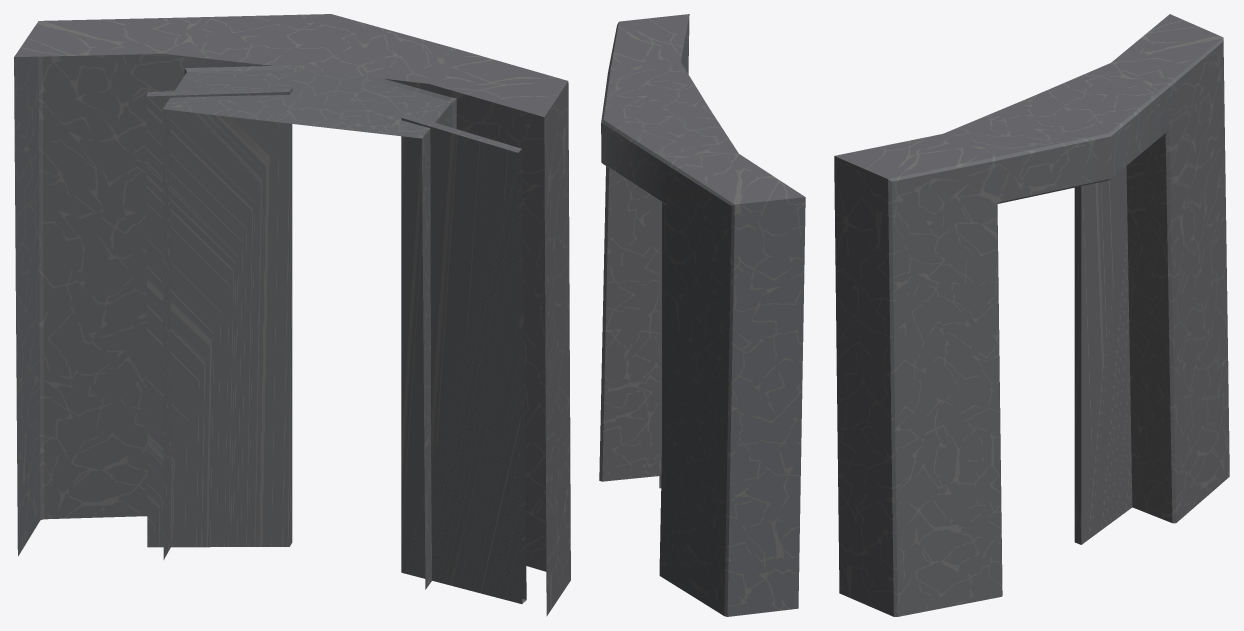
File: field_winter_door_totower.fbx
3 renders of one model, left to right at view 1: azimuth 30°, elevation 25°; view 2: azimuth 150°, elevation 25°; view 3: azimuth 270°, elevation 25°, orthographic. The views are drawn at different scales.
Parts seen in each view (by area): view 1: field_winter_door_totower; view 2: field_winter_door_totower; view 3: field_winter_door_totower.
Boxes of the visible parts, x1,y1,x2,y2 form: field_winter_door_totower: [14, 14, 570, 616]; field_winter_door_totower: [599, 14, 805, 616]; field_winter_door_totower: [834, 14, 1229, 616].
Bounding box in the file's own units: 205 × 248 × 205.
Materials: 1 (1 with a texture image).
